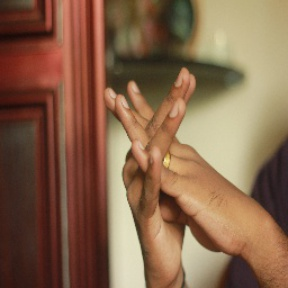W: (95, 54, 229, 234)
